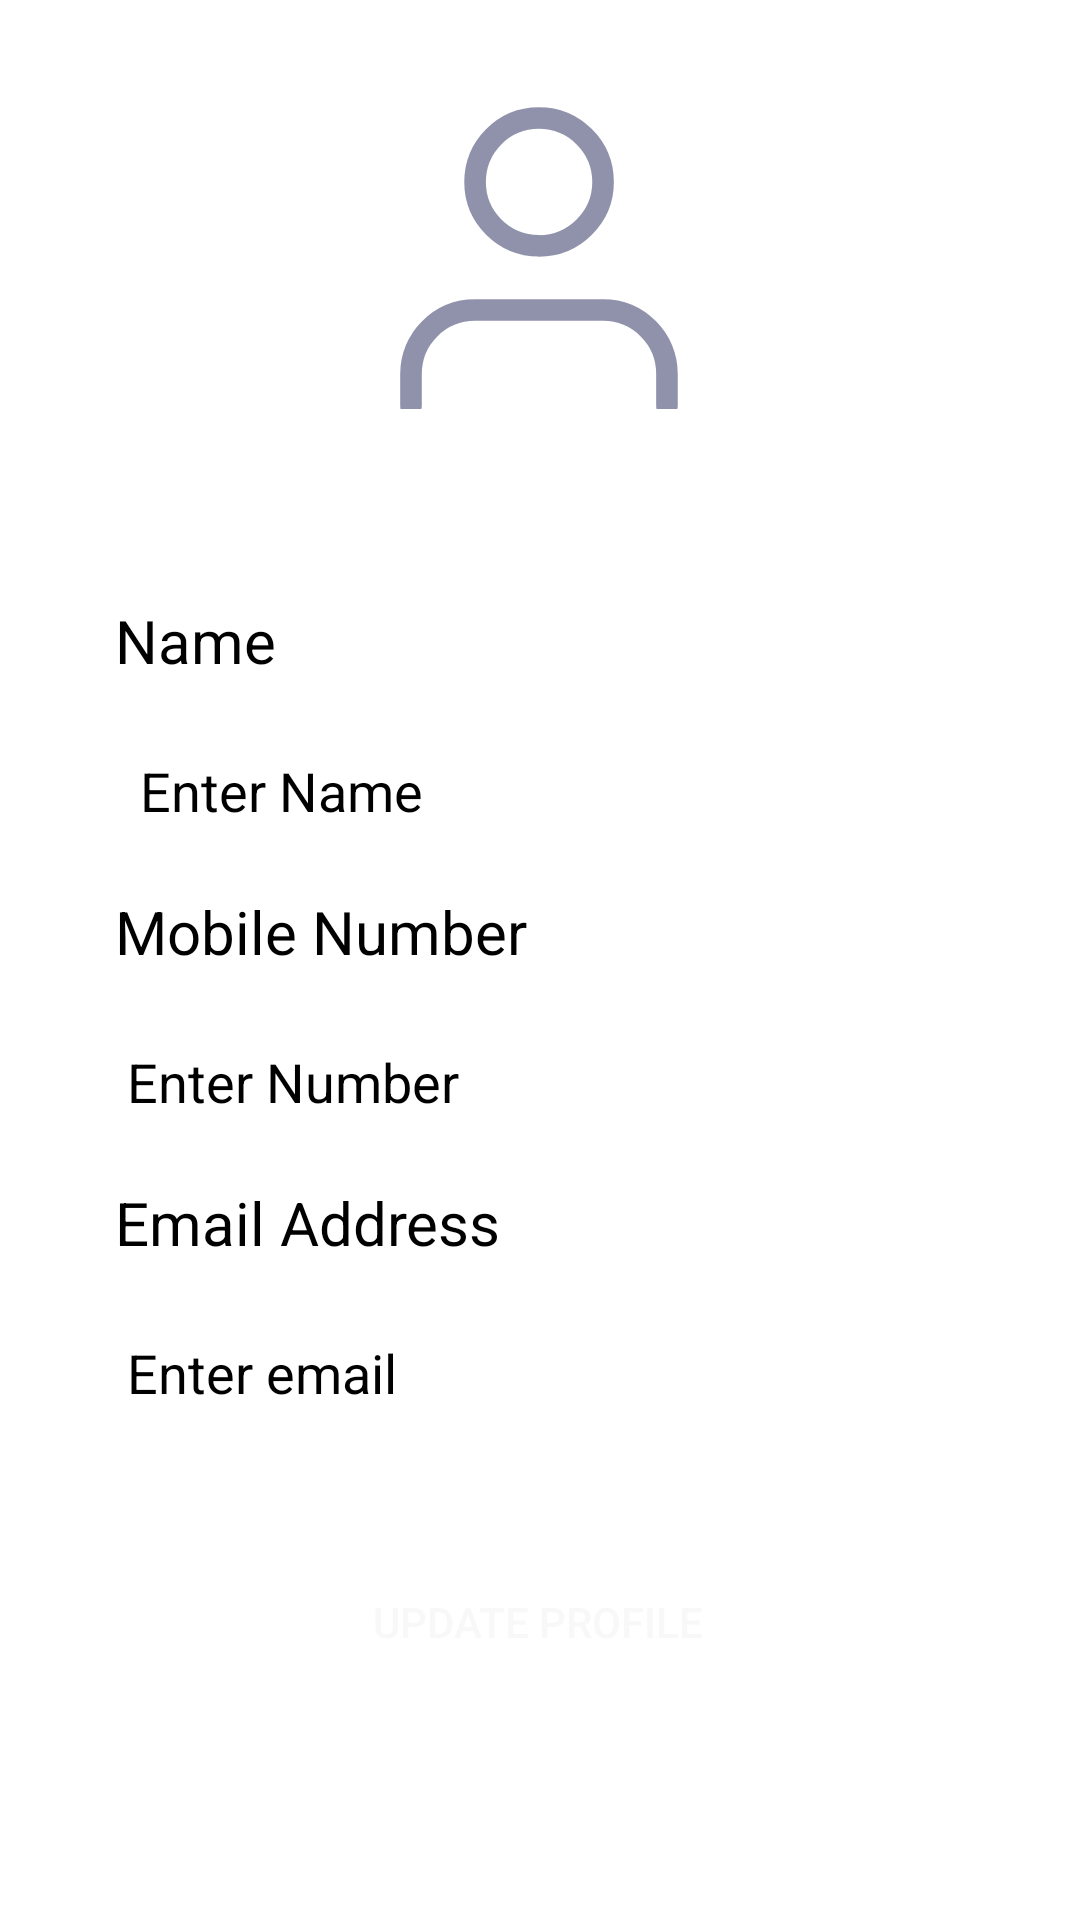

Icons on this 1080px×1920px Android screen, each with the point to tap as point (x, y):
account: point (539, 258)
